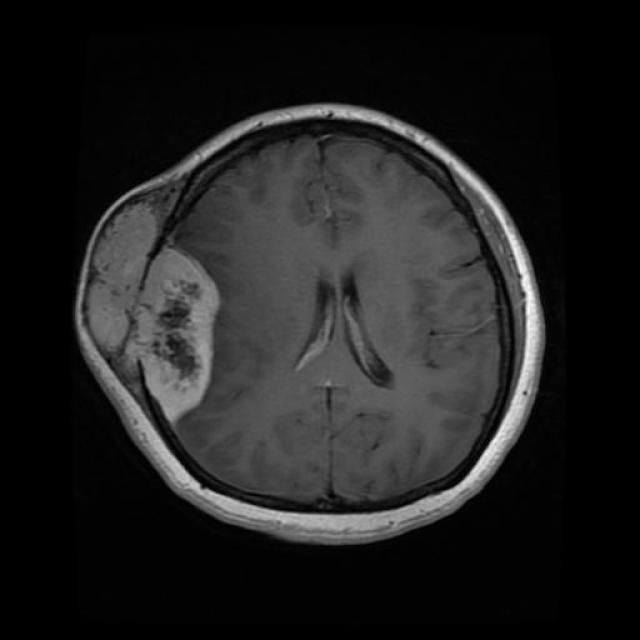Meningioma: (87, 186, 219, 419)
